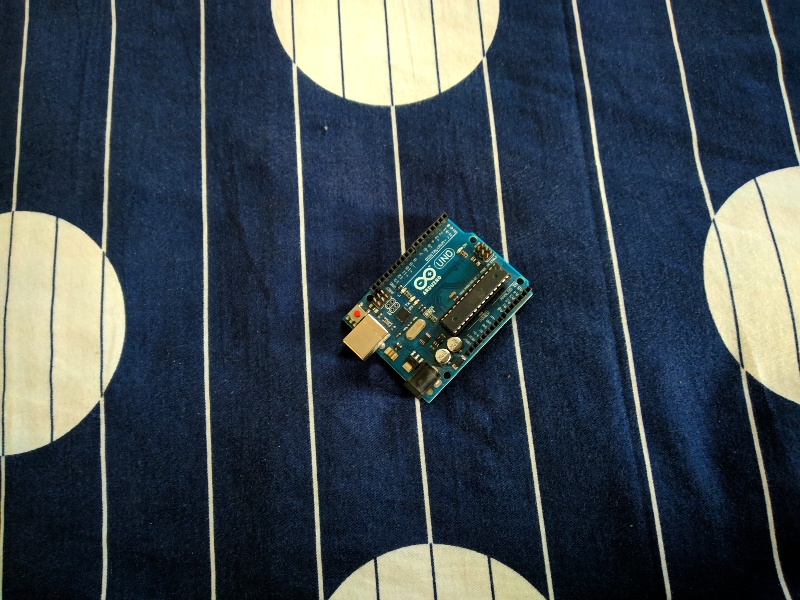Arduino UNO: (340, 209, 538, 409)
